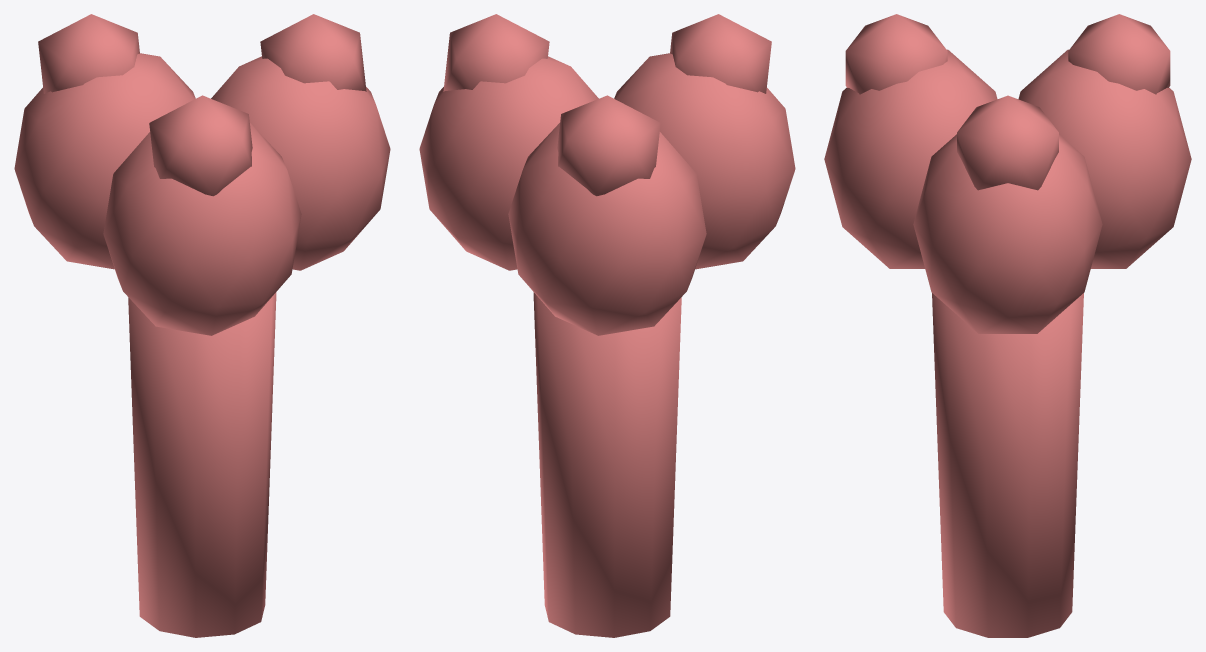
File: receptor_fra.glb
The picture shows the model from 3 angles, left to right: view 1: azimuth 30°, elevation 25°; view 2: azimuth 150°, elevation 25°; view 3: azimuth 270°, elevation 25°; orthographic projection.
Visible parts, largest first — view 1: Receptor_FR_Alpha; view 2: Receptor_FR_Alpha; view 3: Receptor_FR_Alpha.
Part boxes in pixels (x1,y1,x2,y2): Receptor_FR_Alpha: [14, 14, 390, 637]; Receptor_FR_Alpha: [419, 14, 795, 637]; Receptor_FR_Alpha: [824, 14, 1191, 637].
Size of the model in its own units: 0.8165 by 1.47 by 0.8573.
